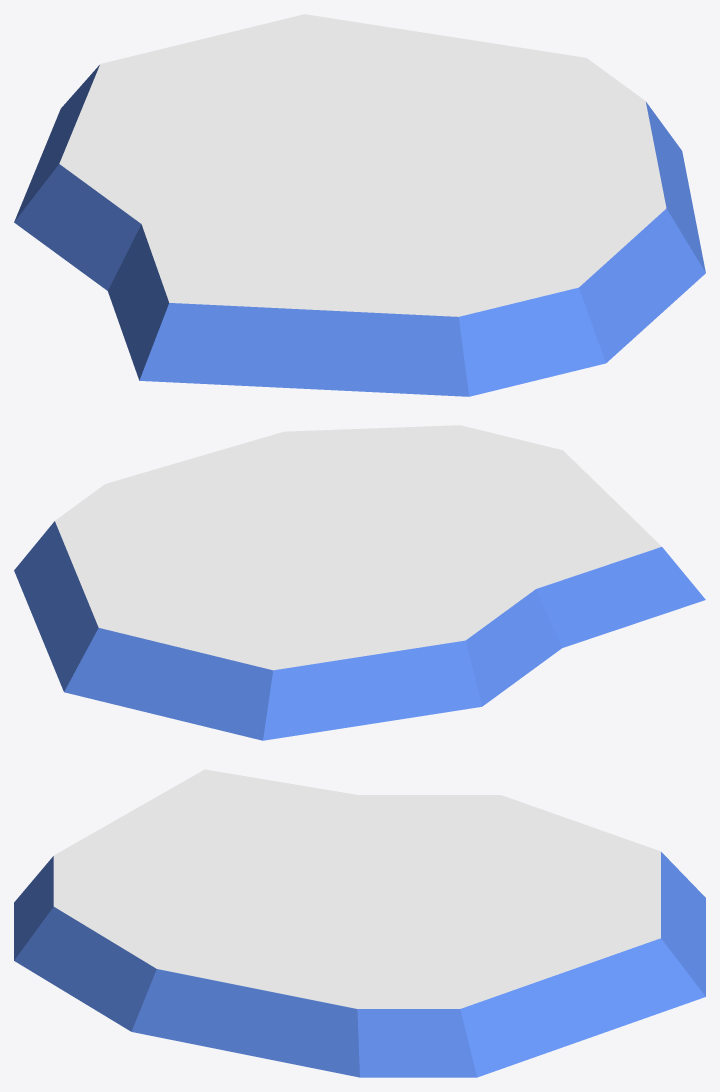
File: Rock029.fbx
The picture shows the model from 3 angles, top to bottom: view 1: azimuth 30°, elevation 25°; view 2: azimuth 150°, elevation 25°; view 3: azimuth 270°, elevation 25°; orthographic projection. The views are drawn at different scales.
Visible parts, largest first — view 1: Rock029; view 2: Rock029; view 3: Rock029.
Part boxes in pixels (<box>): Rock029: <box>14,14,705,396</box>; Rock029: <box>14,425,705,740</box>; Rock029: <box>14,769,705,1077</box>.
Size of the model in its own units: 125 by 11.23 by 134.
